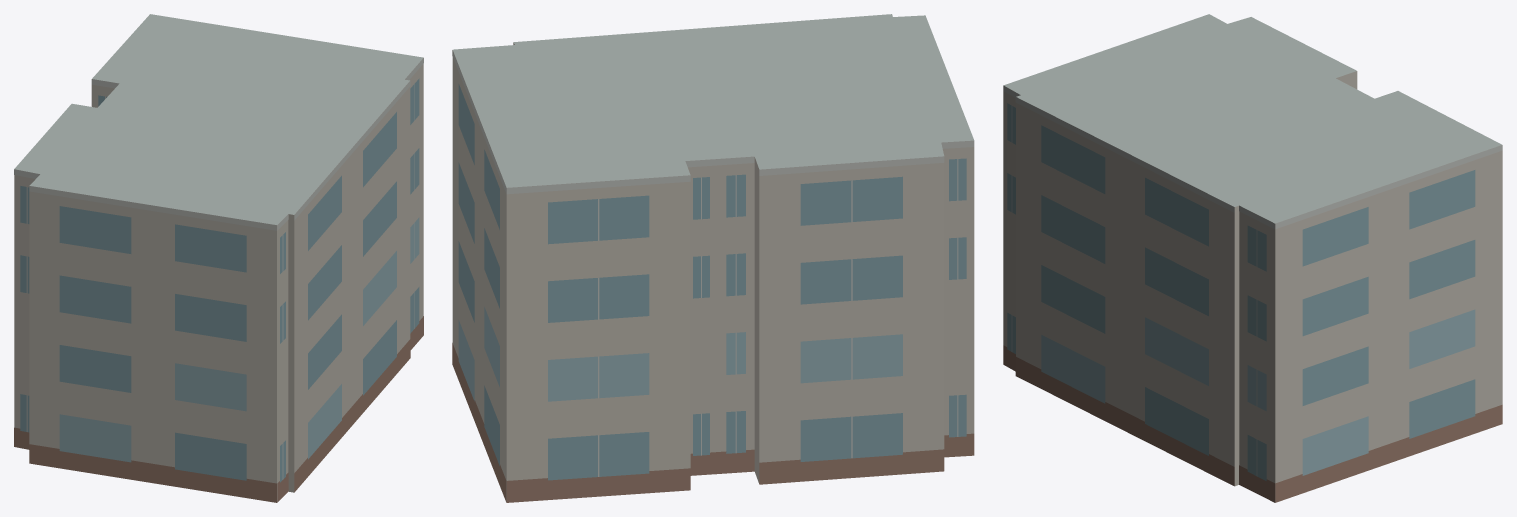
Rendered from survey-upis-32912533.glb.
3 renders of one model, left to right at view 1: azimuth 30°, elevation 25°; view 2: azimuth 150°, elevation 25°; view 3: azimuth 270°, elevation 25°, orthographic. The views are drawn at different scales.
Parts seen in each view (by area): view 1: survey-upis-32912533.tmp; view 2: survey-upis-32912533.tmp; view 3: survey-upis-32912533.tmp.
Boxes of the visible parts, x1,y1,x2,y2 form: survey-upis-32912533.tmp: (14, 14, 423, 502); survey-upis-32912533.tmp: (452, 14, 974, 502); survey-upis-32912533.tmp: (1003, 14, 1502, 502).
Size of the model in its own units: 19.17 by 11.9 by 19.28.
